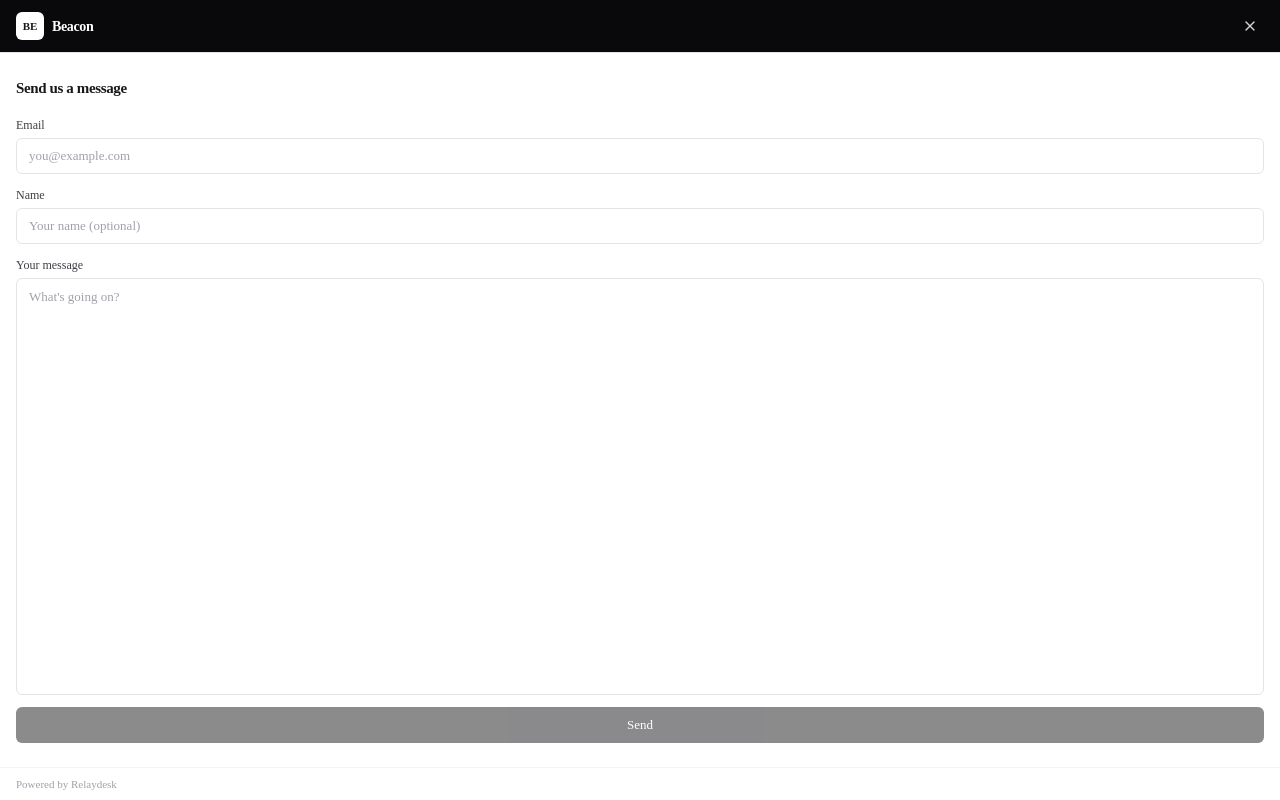
Scenario: Panel deflection events › posts submitted after a successful send
The width and height of the screenshot is (1280, 800).
Type "ada@example.com" into the field labelled "Email".
click(640, 156); type("ada@example.com")  # box [16,138,1264,174]
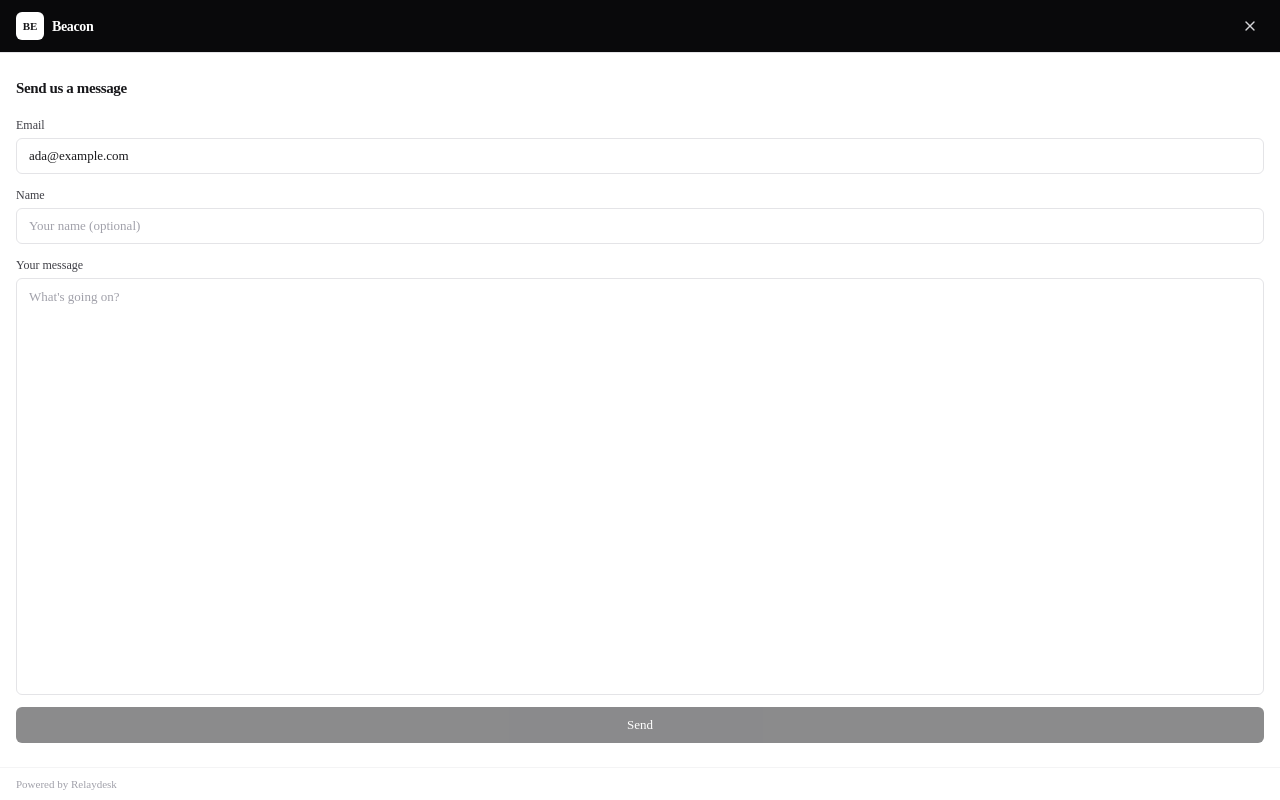
Type "Where is my order?" into the text box labelled "Your message".
click(640, 486); type("Where is my order?")  # box [16,278,1264,694]
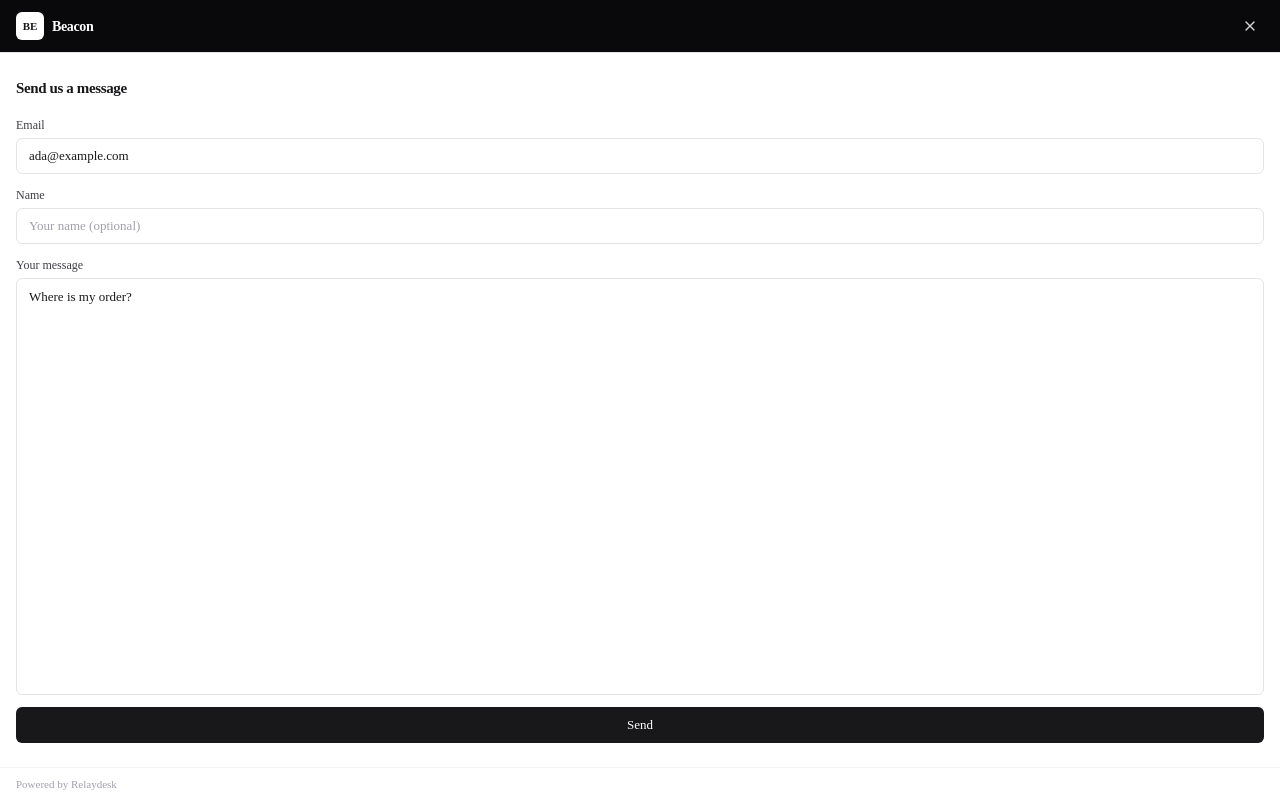
Click the button "Send".
click(640, 724)  # box [16,706,1264,742]
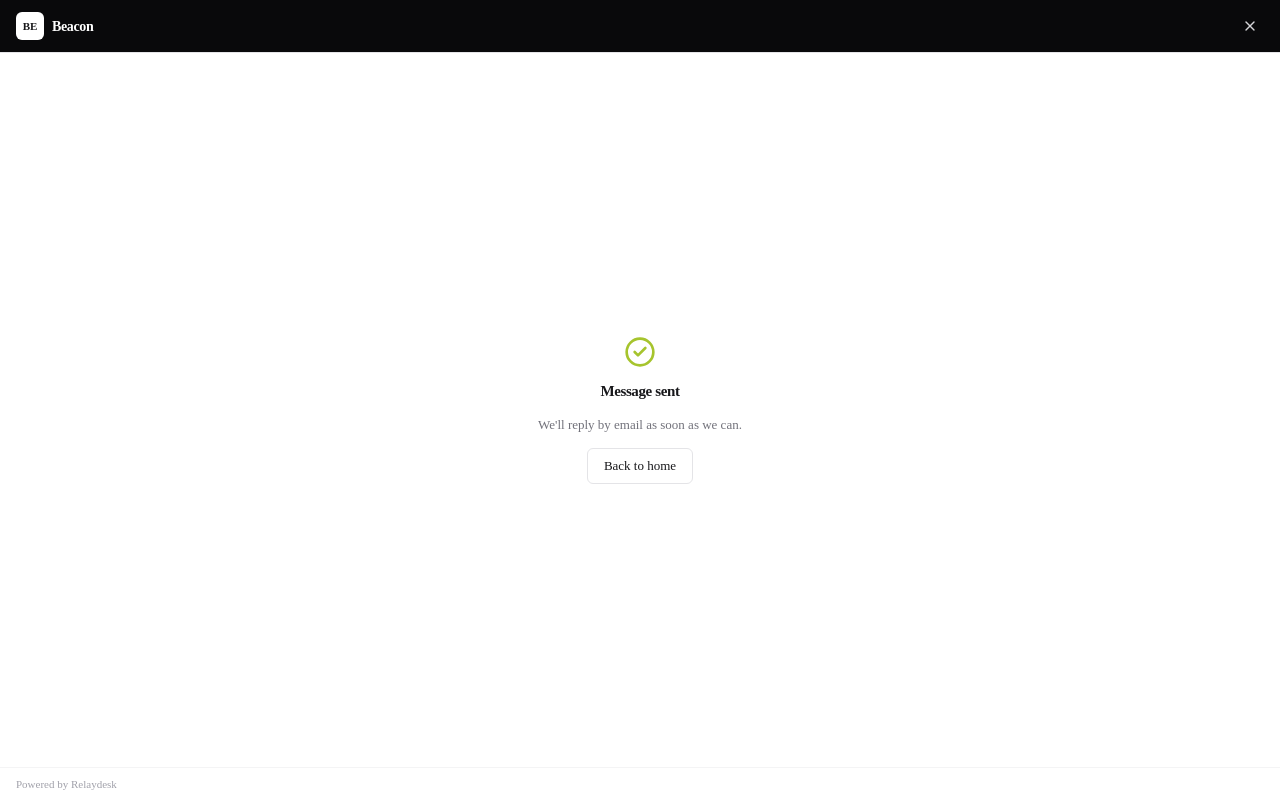
Check: the heading "Message sent" is shown, box [600,380,680,402]
